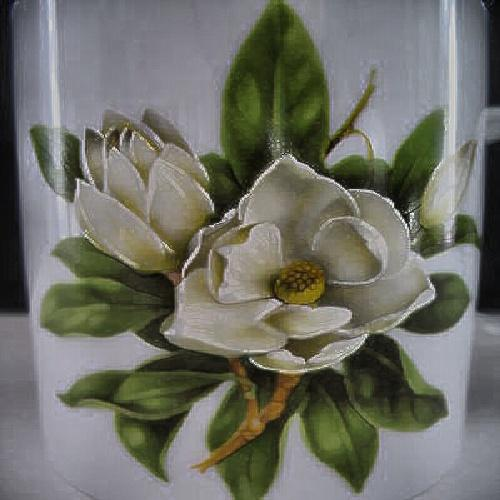mug: (34, 22, 477, 490)
